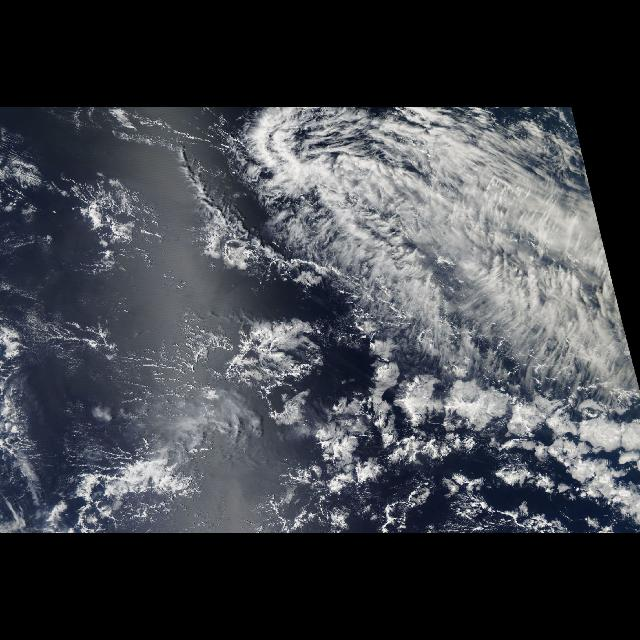Sugar: (16, 308, 230, 454), (41, 158, 179, 306)
